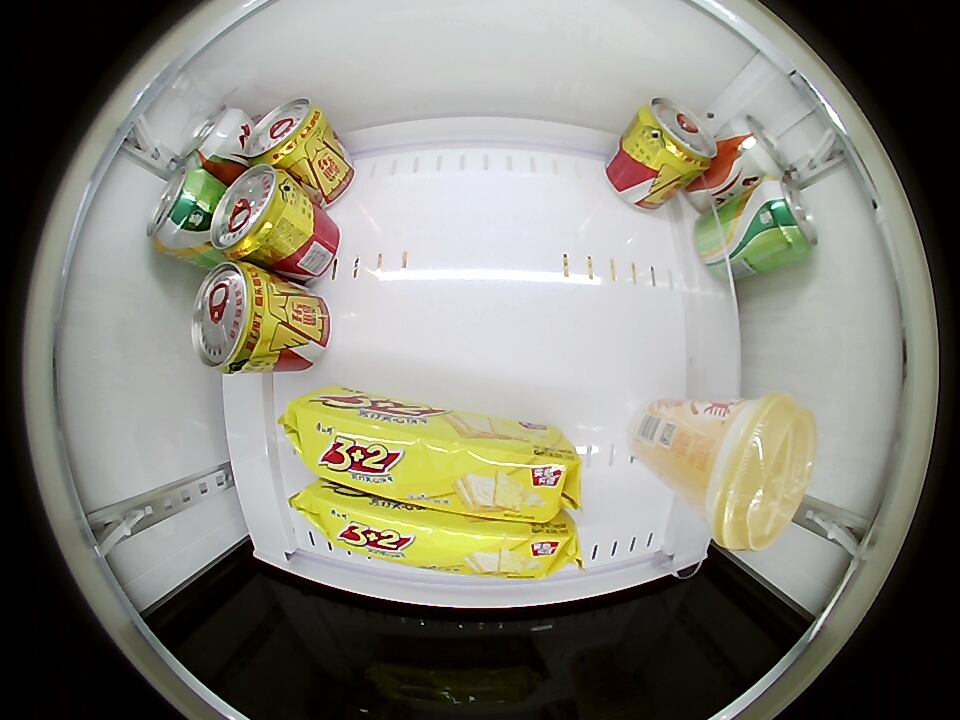3+2-2: (292, 396, 573, 518), (303, 492, 573, 580)
dongpeng: (191, 261, 278, 374), (209, 165, 298, 262), (633, 98, 718, 171), (244, 98, 326, 168)
jianlibao: (179, 106, 249, 172), (727, 115, 787, 178)
quchenshixiangcao: (146, 166, 212, 256), (758, 177, 816, 261)
youlemei: (700, 395, 816, 552)
